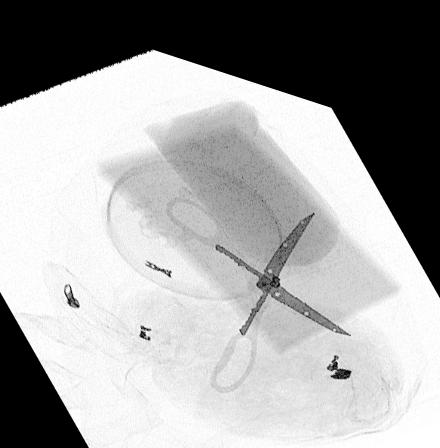Scissors: (160, 181, 351, 379)
